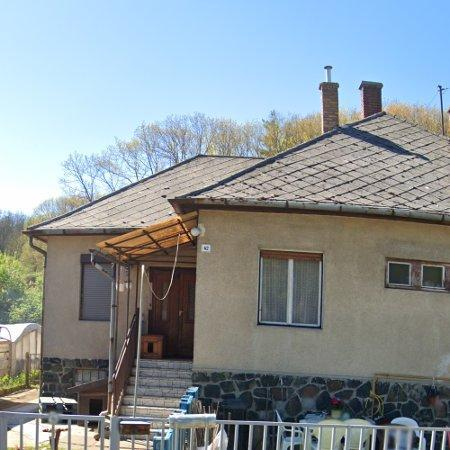chimneys: (320, 65, 340, 132), (360, 81, 383, 117)
